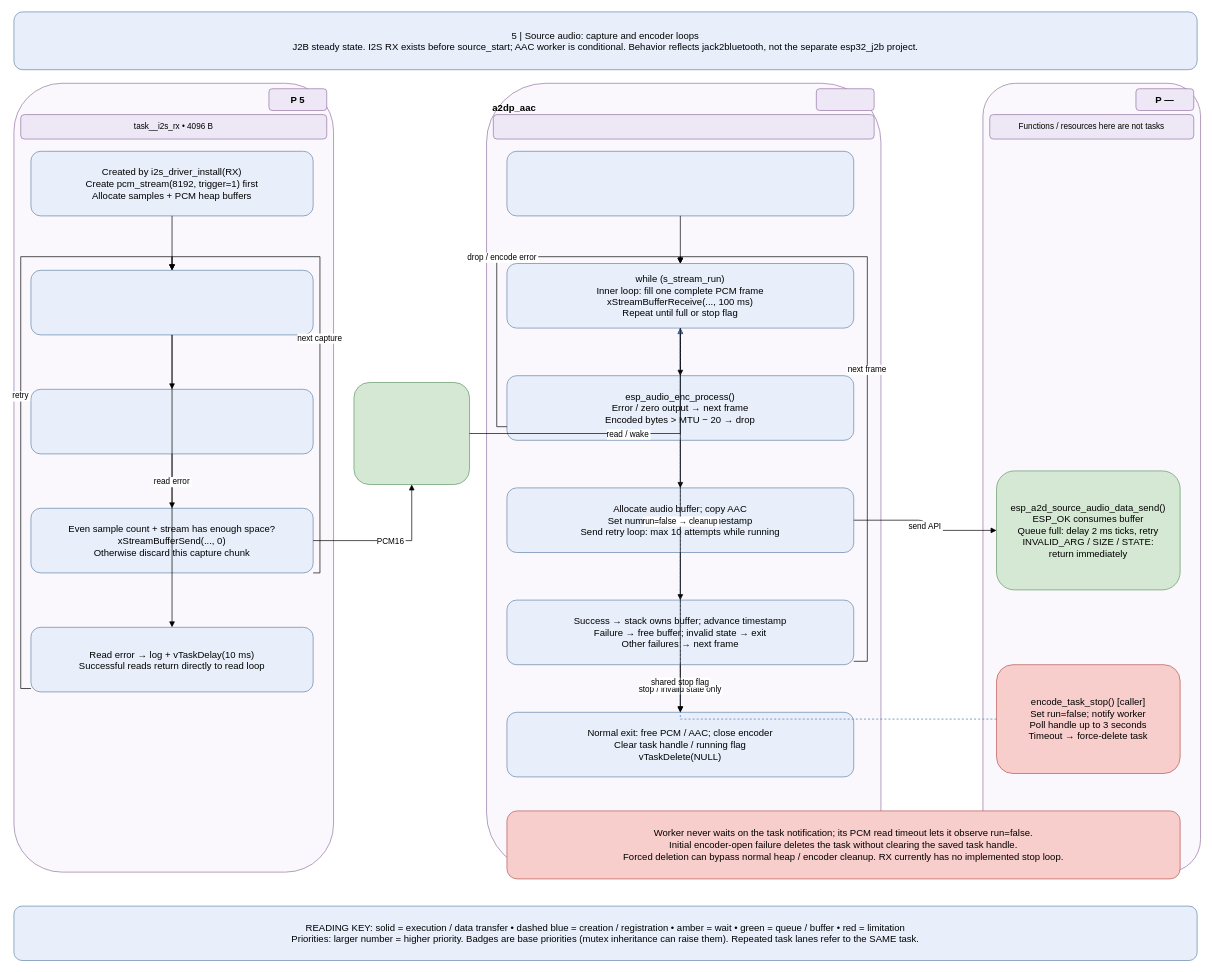
The diagram is 1212 pixels wide and 972 high, and some of its shapes have lost their labels. The box of each missing label's shape, as (x1, y1, x2, y2) in pixels:
encode_task_stream_task • 4096 B: (493, 114, 874, 139)
ESP_OK / TIMEOUT: use partial data Extract upper 16 bits; preserve L/R order: (30, 389, 313, 454)
i2s_rx_task: (13, 83, 334, 872)
Open encoder; query frame sizes Allocate PCM + AAC output buffers: (506, 151, 854, 216)
P 10: (816, 88, 874, 111)
pcm_stream 8192 bytes One producer: RX One consumer: AAC: (353, 382, 470, 485)
Transport / lifecycle: (982, 83, 1201, 872)
while (1) i2s_channel_read(..., 1000 ms) BLOCK waiting for DMA data / timeout: (30, 270, 313, 335)
